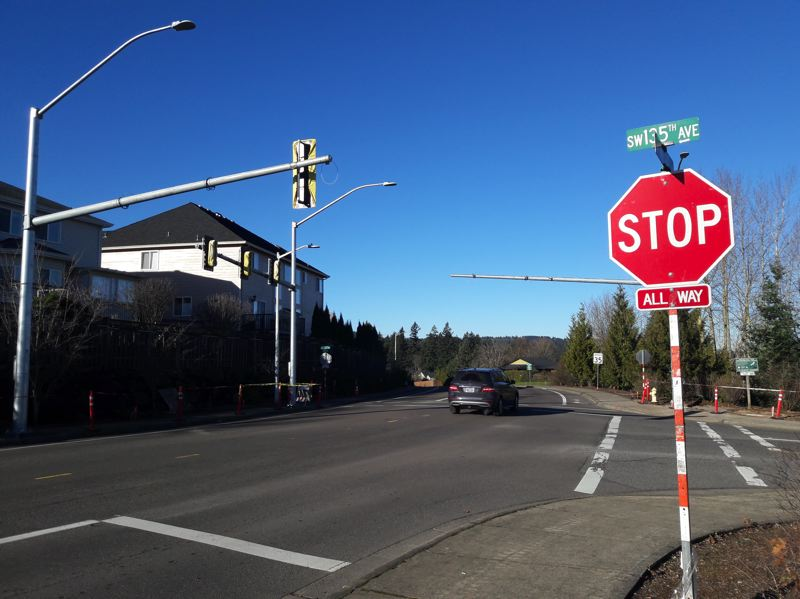stopsign: (611, 164, 732, 285)
